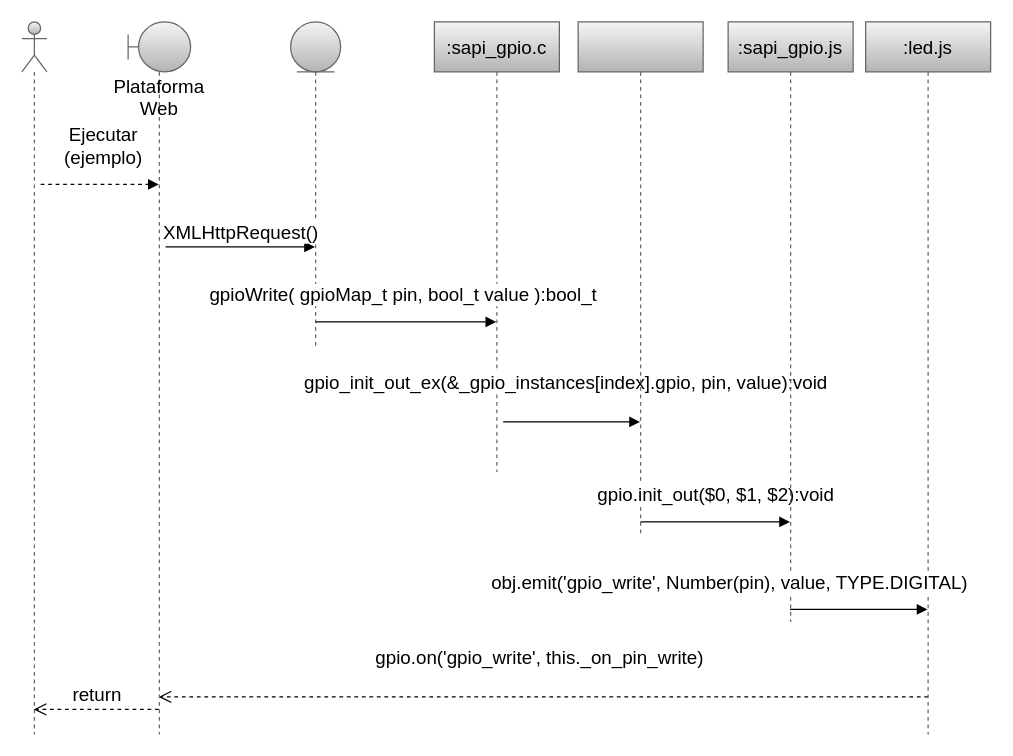
Some shapes in this 1013 by 756 pixel diagram are drawn without their labels. The shapes that lost their labels are listed below. From the top down, each one's box as (x1, y1, x2, y2) in pixels, then its label:
(289, 21, 341, 347): Controller
(577, 21, 703, 534): :gpio_api.c
